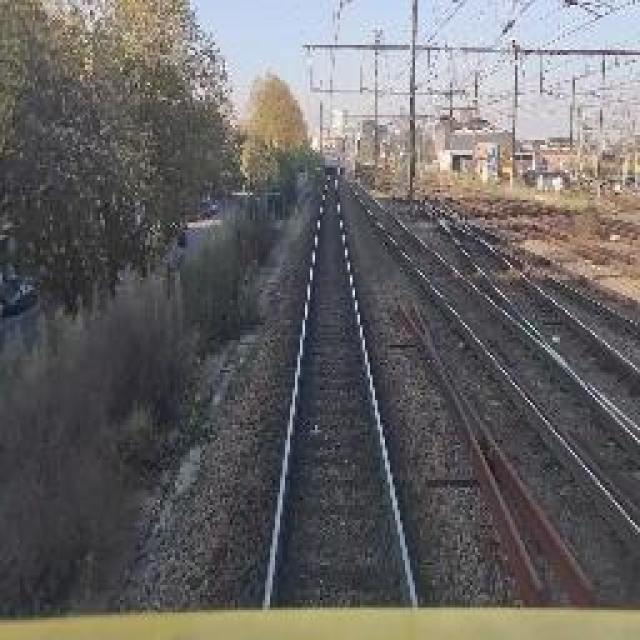rail: (237, 172, 464, 610)
